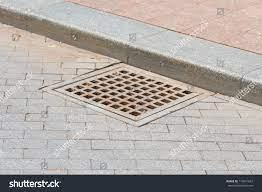open drainage-not overflowing-: (61, 64, 199, 122)
